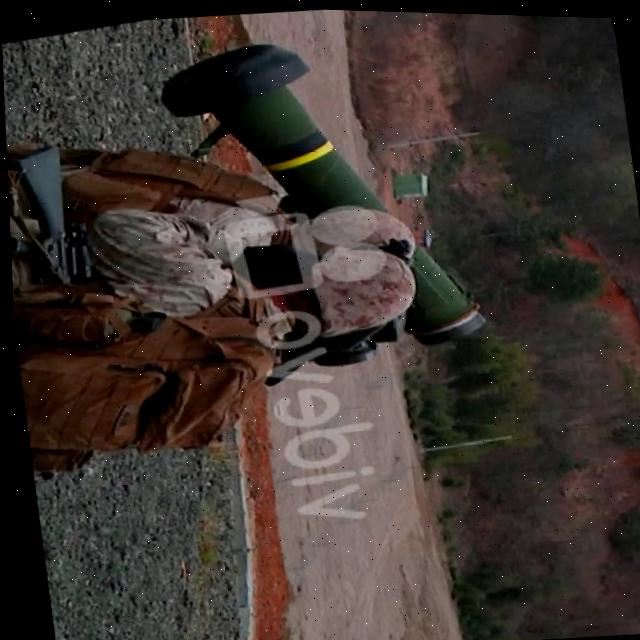rocket: (150, 5, 490, 377)
